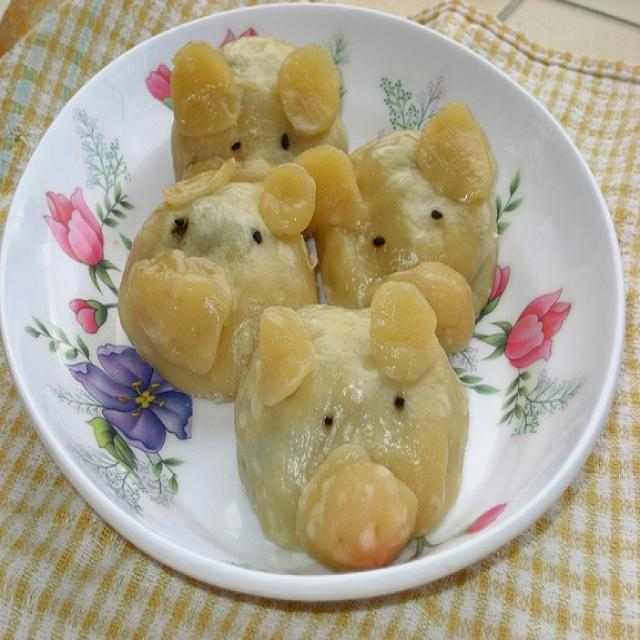带馅早点: (25, 15, 609, 604)
